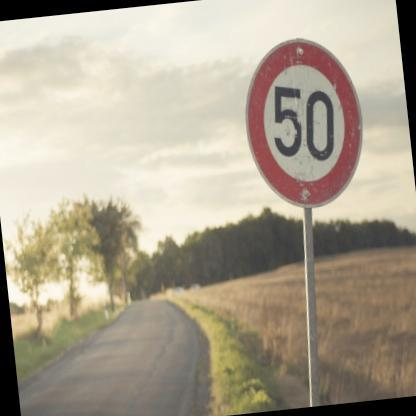road_sign: (248, 39, 362, 207)
